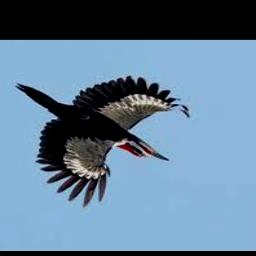Woodpecker: (16, 77, 190, 208)
